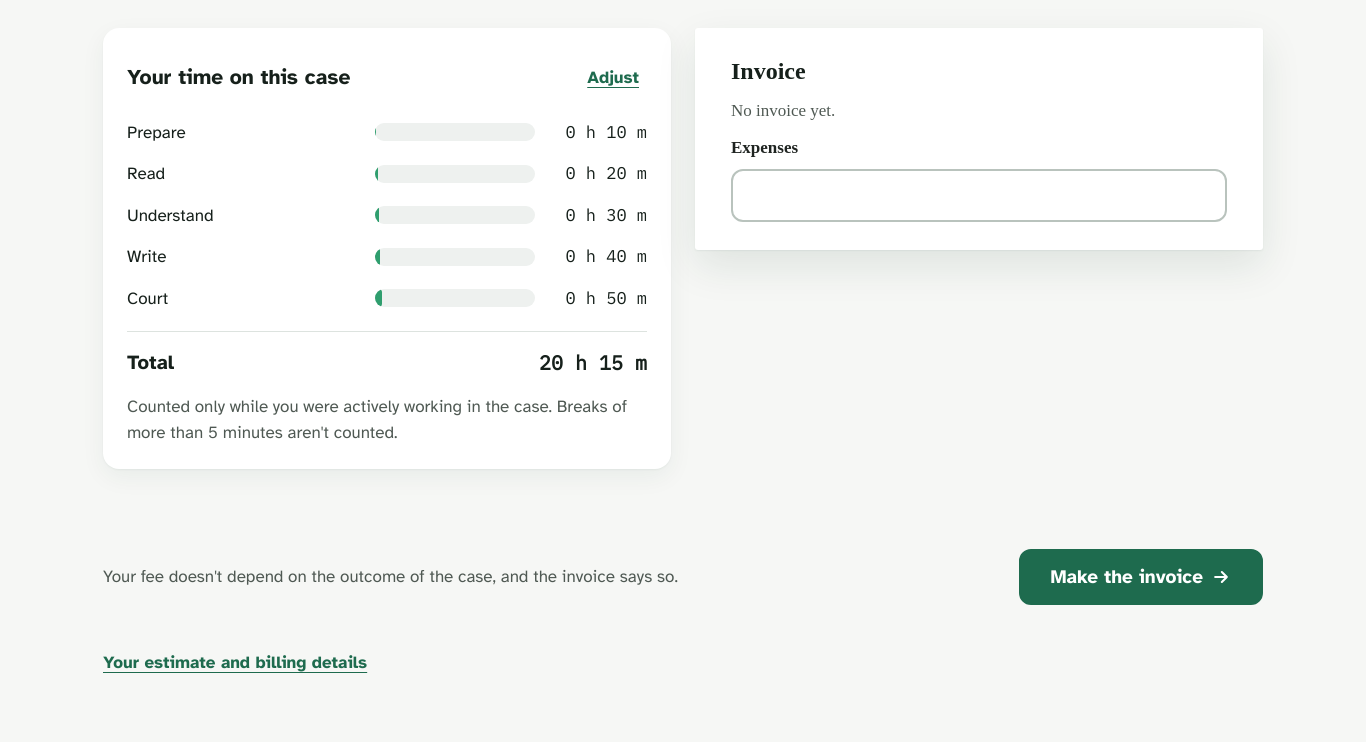
Test: making an invoice refused with no_billing_profile is explained
This screenshot has width=1366, height=742.
(page scrolled)
Click the button "Make the invoice": coordinates (1141, 577) [1018, 549, 1263, 605]
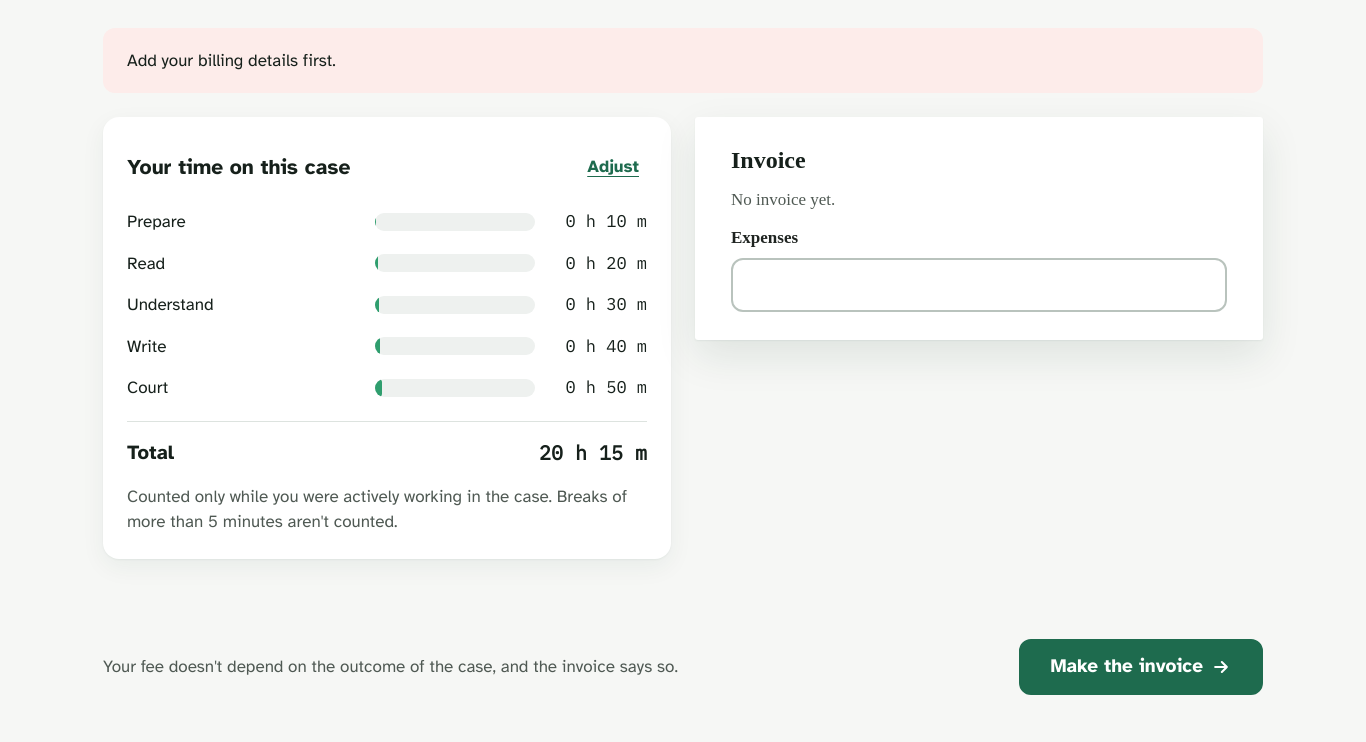
Expected: the text "Add your billing details first." is shown, [127, 50, 336, 70]
